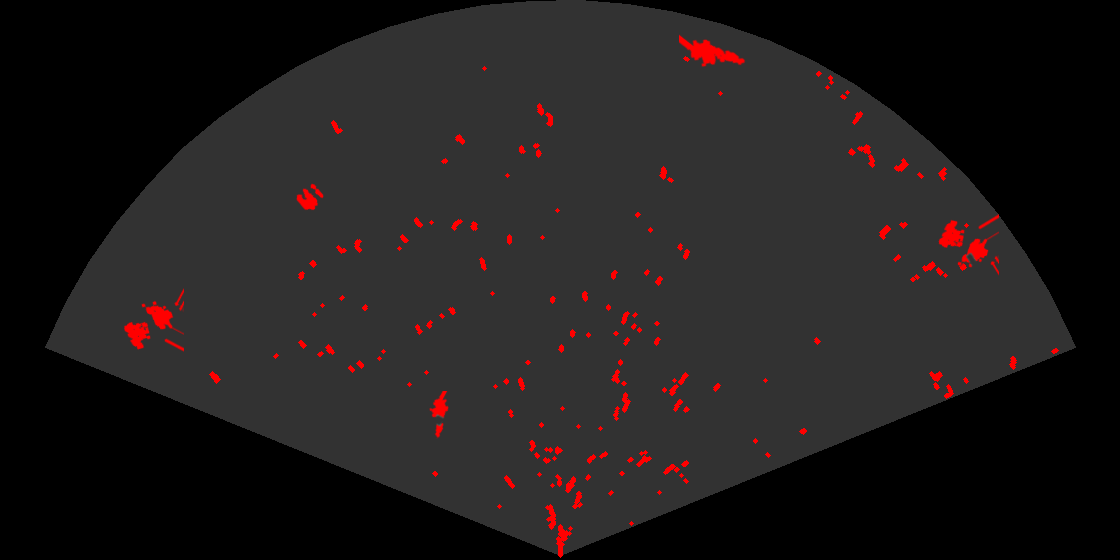ball: (295, 182, 325, 212)
cage: (122, 287, 184, 353), (937, 213, 999, 277)
frogman: (679, 33, 747, 69), (428, 391, 450, 439)
